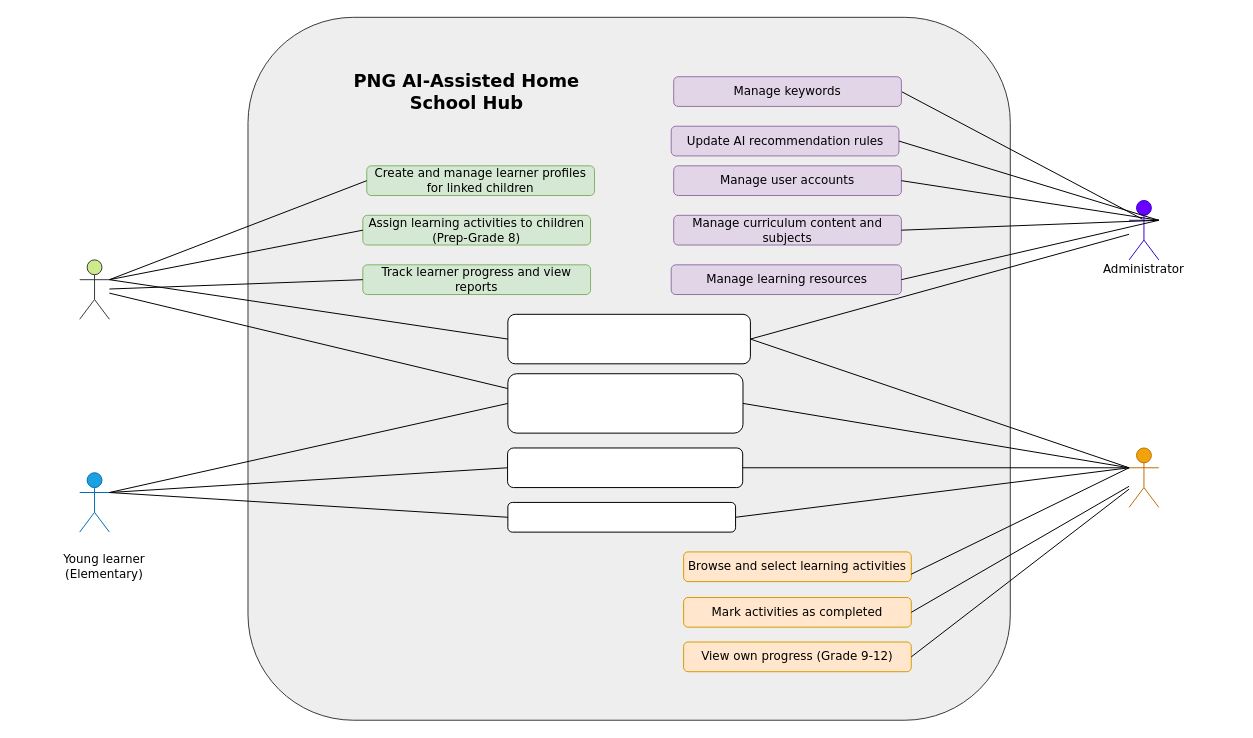
Some shapes in this 1253 by 738 pixel diagram are drawn without their labels. The box of each missing label's shape, as (x1, y1, x2, y2) in pixels:
Access parent-assigned learning activities: (507, 447, 743, 488)
Parent: (79, 259, 109, 319)
Primary and Secondary learner: (1128, 447, 1159, 507)
Register and log in (Grade 9-12 independently; Grade 3-8 via parent account): (507, 313, 750, 364)
Take quiz: (507, 501, 736, 532)
View recommended learning resources (Young learner with parental guidance): (507, 373, 743, 433)
